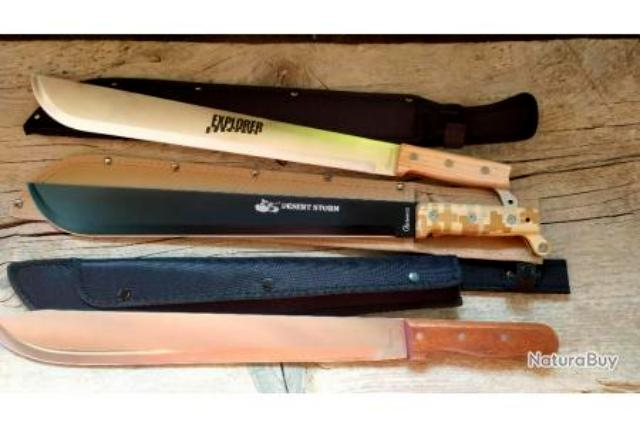long knife: (19, 61, 524, 176), (6, 308, 580, 378), (23, 188, 554, 252)
